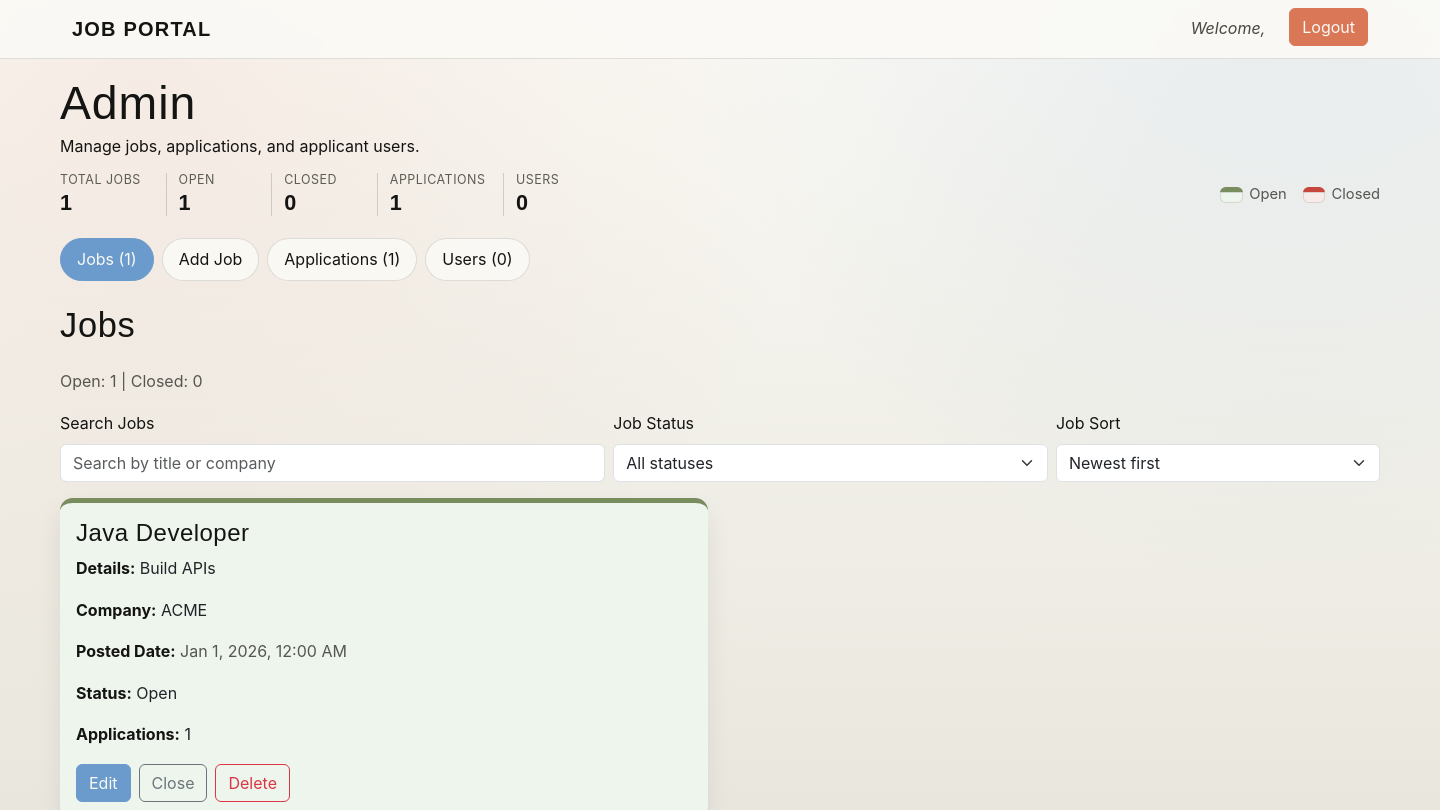
it: AdminDashboard › should switch between jobs, add job, and applications tabs
Click the tab "Add Job": point(211, 260) [162,238,259,281]
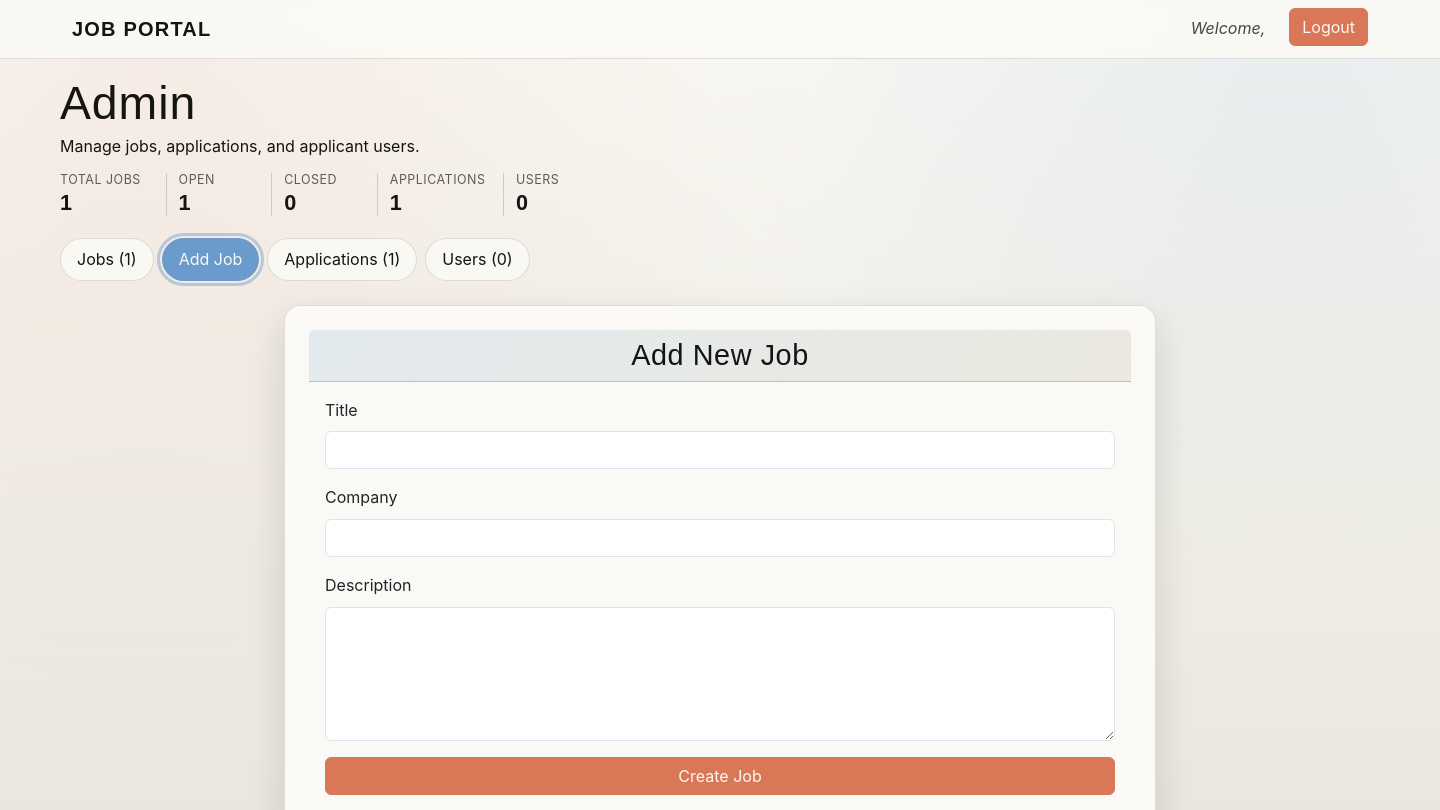
Check: the heading "Add New Job" is shown, box [631,339,809,371]
Check: the field labelled "Title" is shown, box [325,432,1115,470]
Click the tab "Applications (1)": point(342, 260) [267,238,417,281]
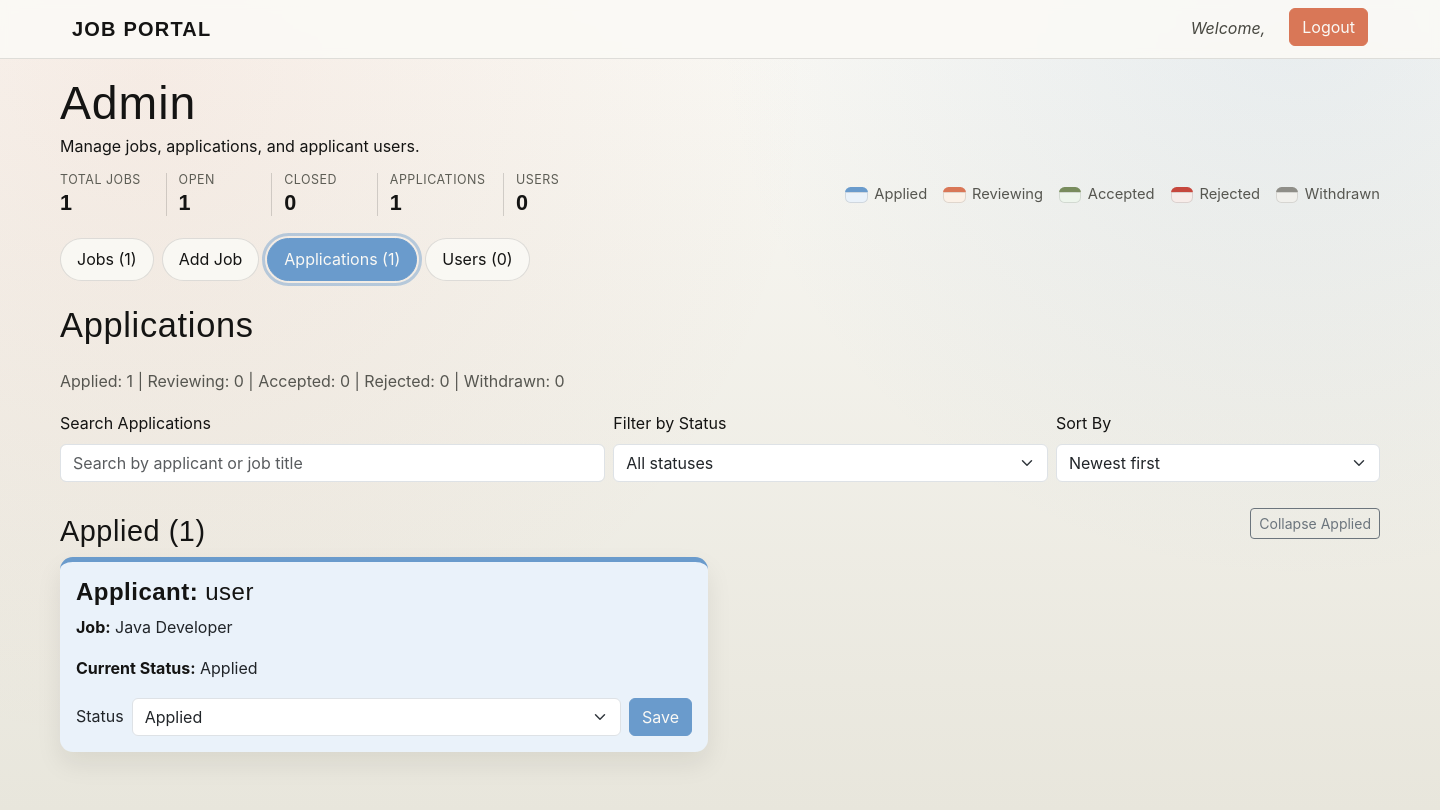
Check: the heading "Applied (1)" is shown, box [60,514,206,549]
Check: the element named "Applications color legend" shows "Applied", box [874,185,927,203]
Check: the element named "Applications color legend" shows "Reviewing", box [972,185,1043,203]
